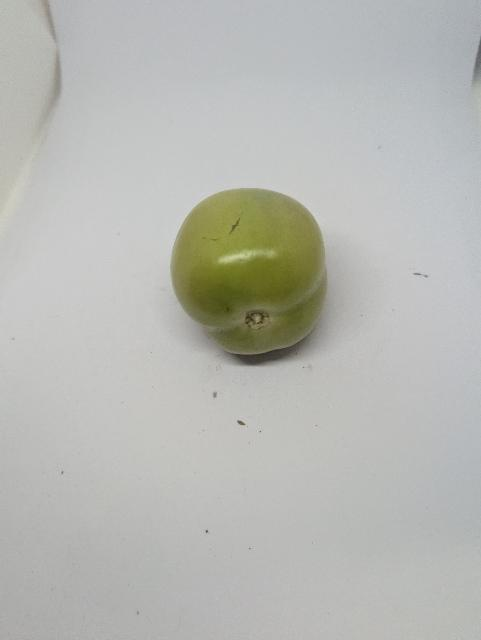green: (168, 186, 329, 356)
